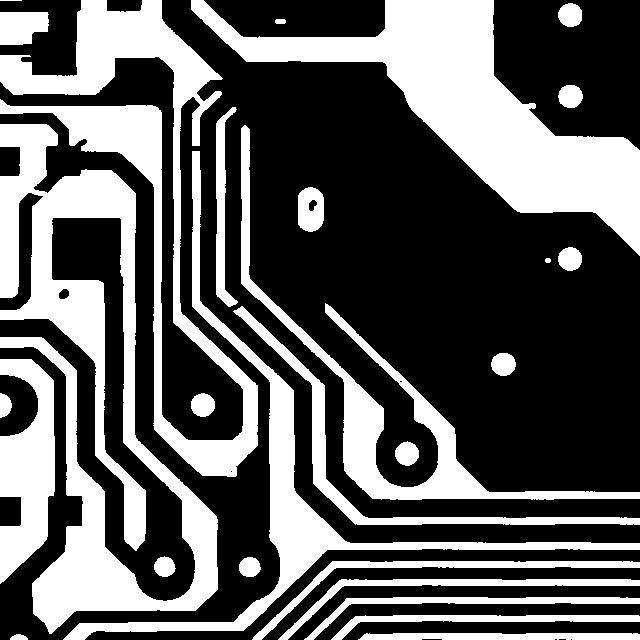copper: (49, 279, 78, 308), (299, 190, 326, 220)
mousebite: (214, 456, 246, 486), (511, 93, 545, 118)
open: (13, 178, 60, 208), (180, 77, 214, 115)
pin-hole: (265, 9, 295, 33), (535, 248, 560, 272)
short: (213, 289, 259, 323), (180, 136, 215, 160)
spur: (65, 129, 96, 158), (11, 47, 44, 71)
